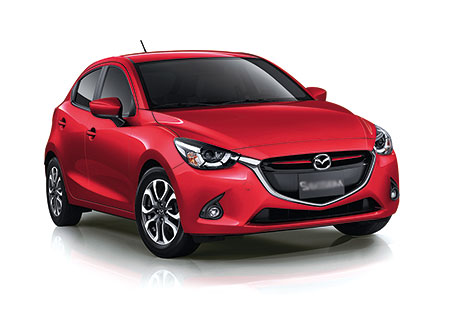sedan: (42, 49, 401, 257)
